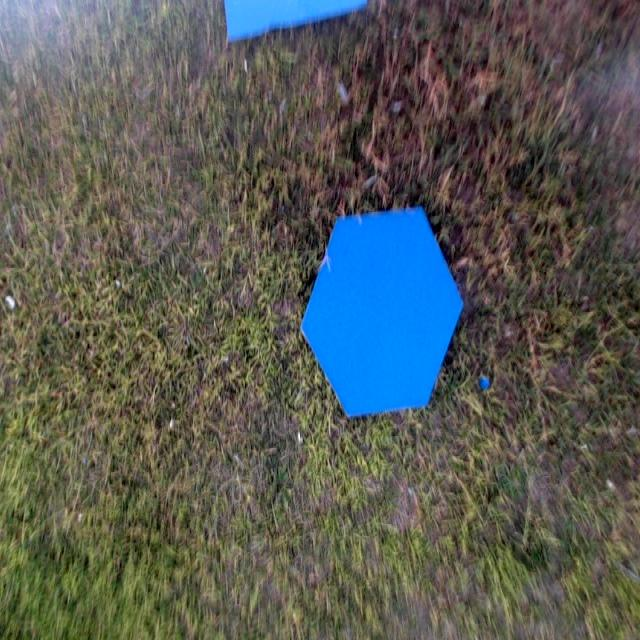blue_hexagon: (305, 206, 463, 418)
